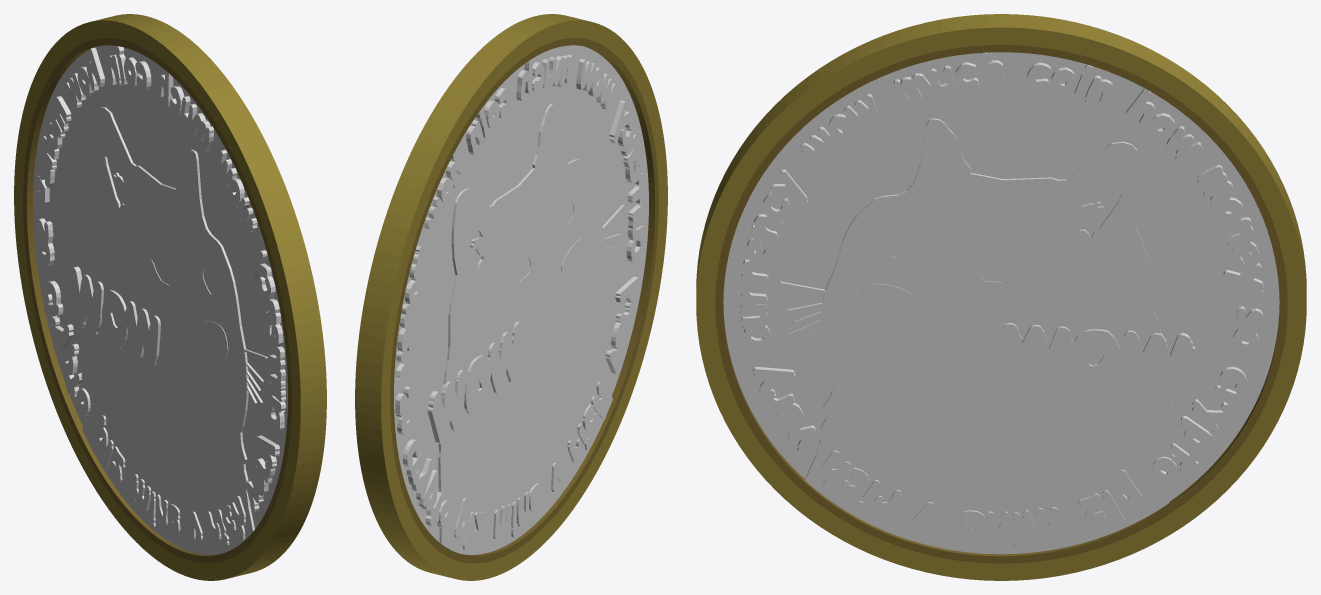
File: DogeCoin.gltf
3 views of the same model, side by side, from view 1: azimuth 30°, elevation 25°; view 2: azimuth 150°, elevation 25°; view 3: azimuth 270°, elevation 25° (orthographic). The views are drawn at different scales.
Visible parts, largest first — view 1: Cylinder; view 2: Cylinder; view 3: Cylinder.
Part boxes in pixels (x1=…): Cylinder: x1=14, y1=14, x2=326, y2=580; Cylinder: x1=355, y1=14, x2=667, y2=580; Cylinder: x1=696, y1=14, x2=1306, y2=580.
Size of the model in its own units: 0.4248 by 8.07 by 8.07.
